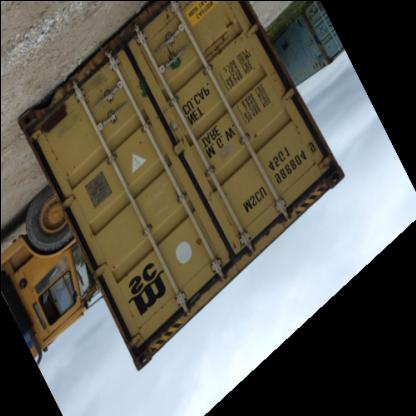Damage: (190, 24, 242, 66), (29, 103, 73, 145), (232, 235, 258, 263), (270, 206, 305, 224), (240, 126, 264, 148), (190, 237, 208, 251)
